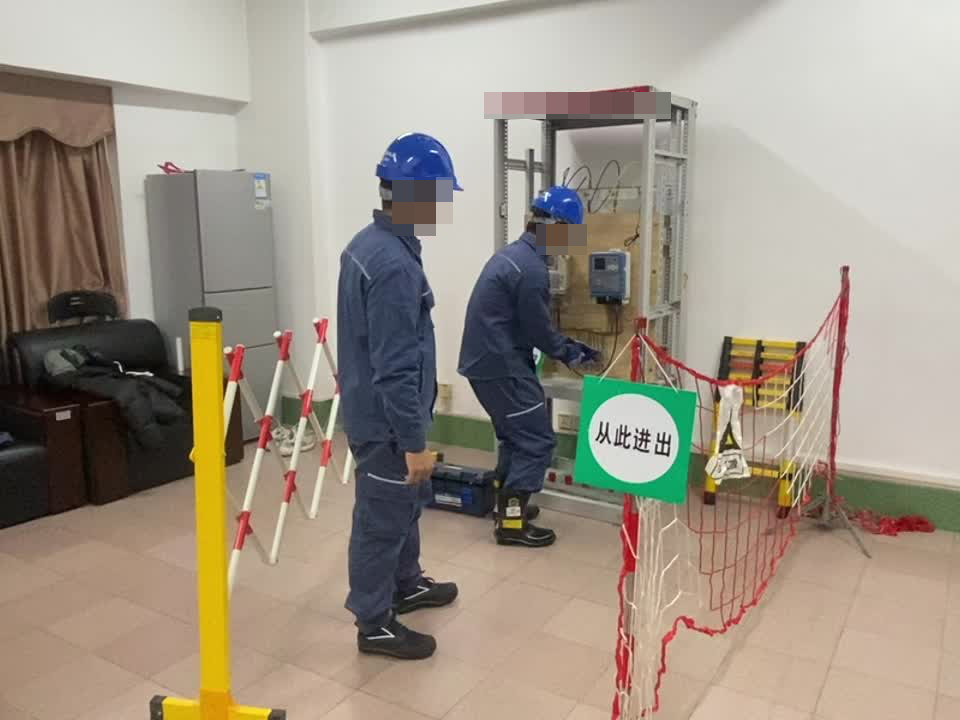downsuit: (341, 440, 432, 626), (468, 369, 556, 486)
glove: (560, 333, 599, 367)
halt: (374, 133, 462, 233), (530, 185, 587, 245)
hand: (397, 449, 438, 487)
inear: (408, 185, 440, 225)
intosign: (581, 382, 692, 499)
noear: (544, 215, 564, 251)
person: (329, 131, 463, 657), (459, 185, 598, 549)
shoe: (491, 491, 556, 547)
upsuit: (335, 222, 436, 436), (460, 235, 565, 375)
